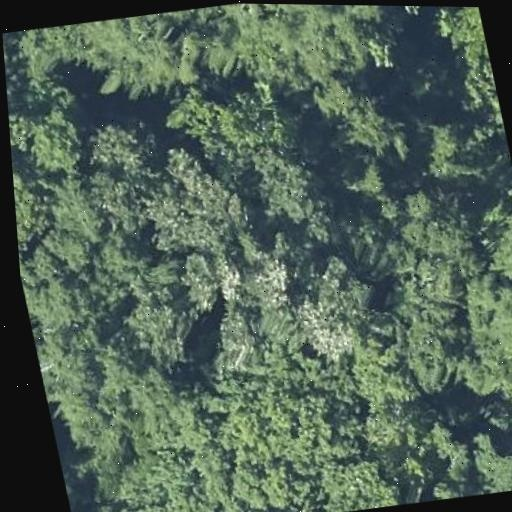tree-top: (74, 362, 384, 512), (198, 3, 411, 105), (434, 203, 512, 433), (35, 7, 215, 106), (123, 141, 262, 262), (87, 270, 229, 387), (168, 72, 302, 169), (305, 67, 411, 160), (249, 142, 339, 246), (77, 105, 170, 186), (13, 99, 98, 181), (10, 138, 59, 276), (420, 109, 493, 190), (461, 409, 512, 496), (429, 6, 489, 64), (2, 31, 36, 115)
